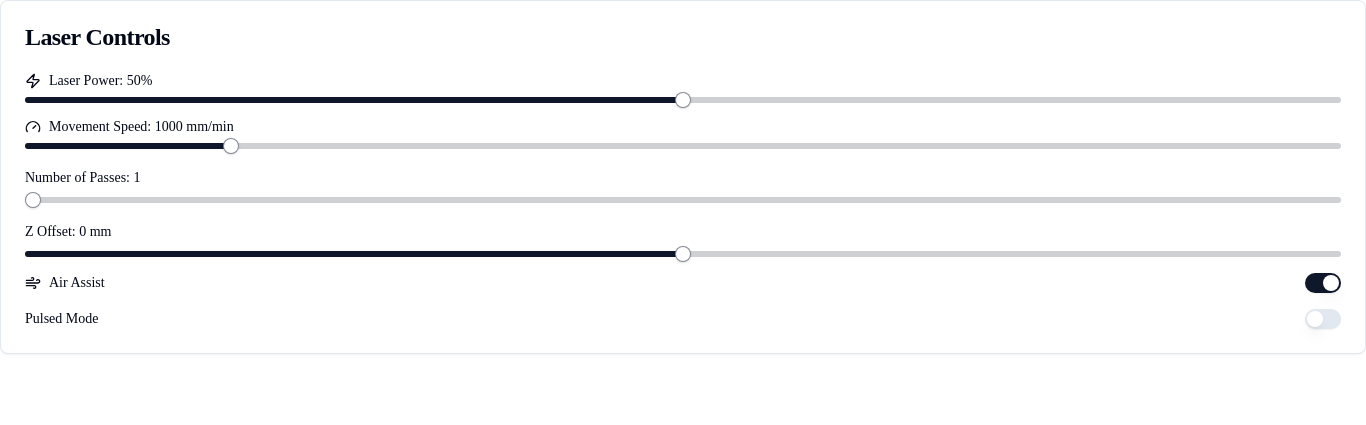
LaserControls › shows pulse frequency control when pulsed mode is enabled
The image size is (1366, 425).
Expected: the text "Pulse Frequency" is not shown
Click the switch in the row of "Pulsed Mode": (1323, 319) [1305,309,1341,329]
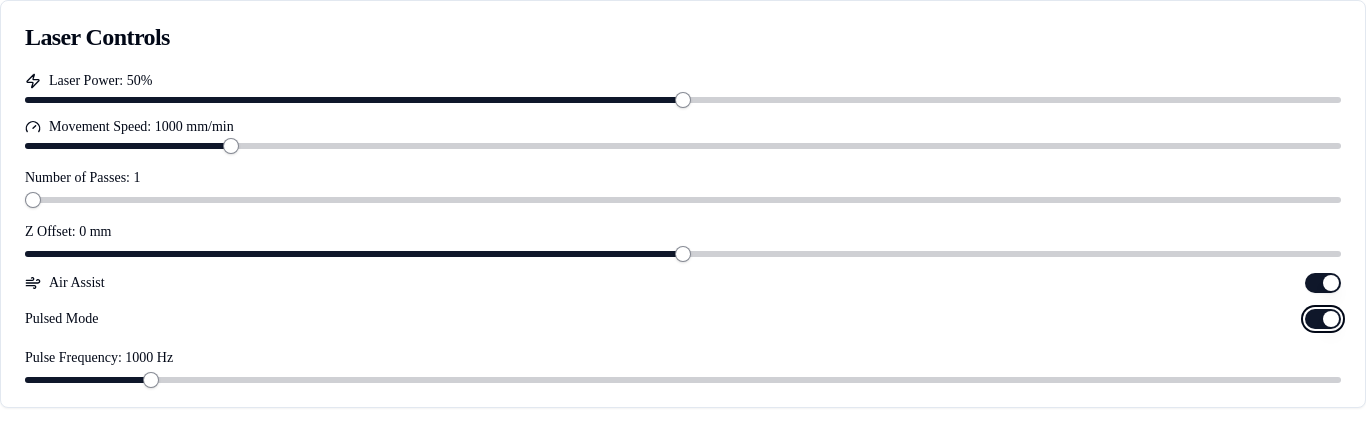
Now the text "Pulse Frequency: 1000 Hz" is shown, box [25,350,173,365]
